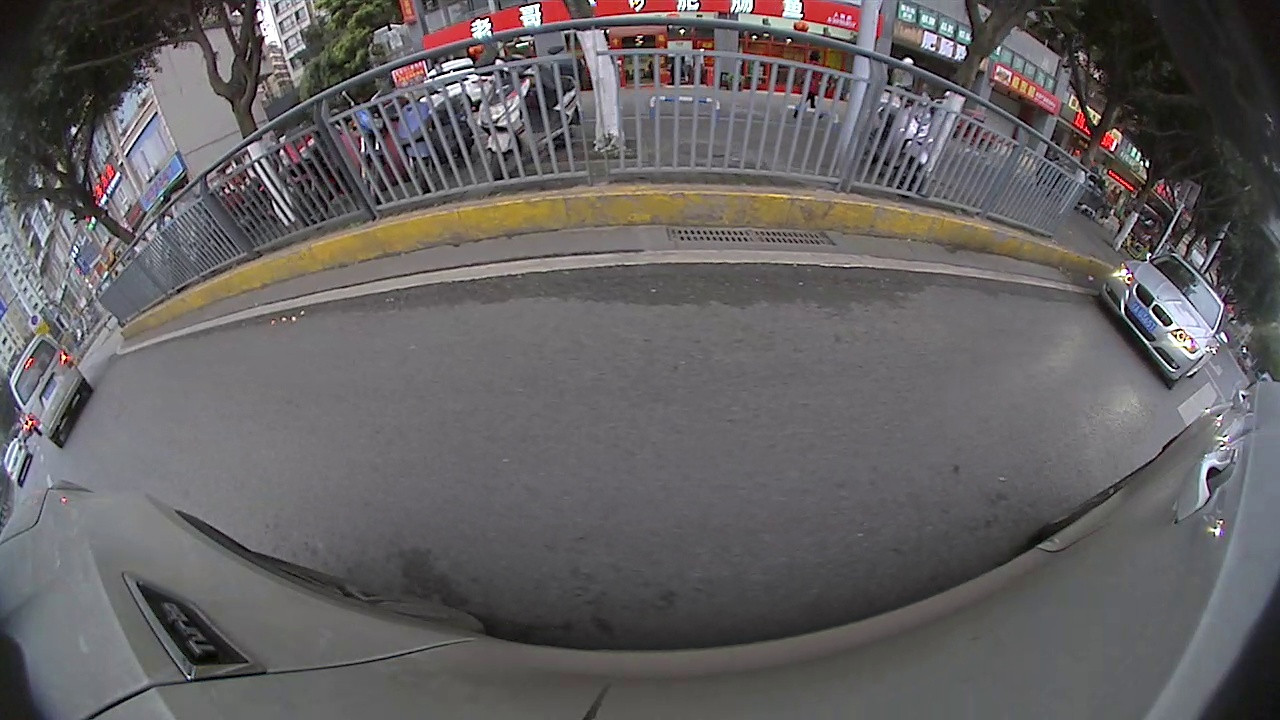car: (1093, 244, 1227, 394), (2, 333, 97, 451)
rear: (1092, 202, 1111, 222)
rider: (333, 79, 475, 201), (473, 47, 586, 183), (876, 73, 951, 201)
